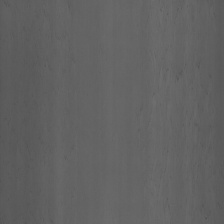silk_spot: (157, 54, 220, 158)
